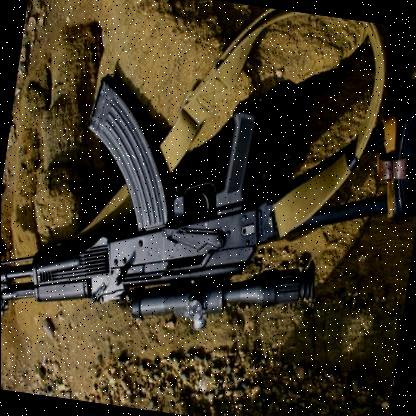rifle: (0, 58, 416, 371)
